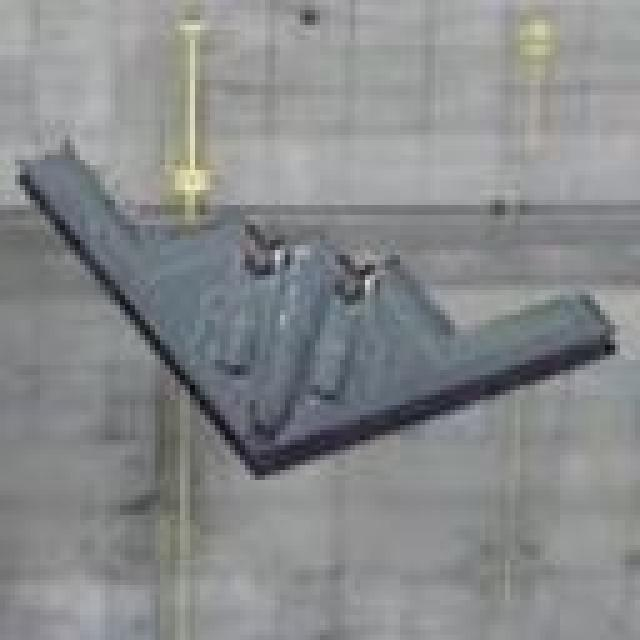B-2_TopDown: (10, 125, 620, 480)
